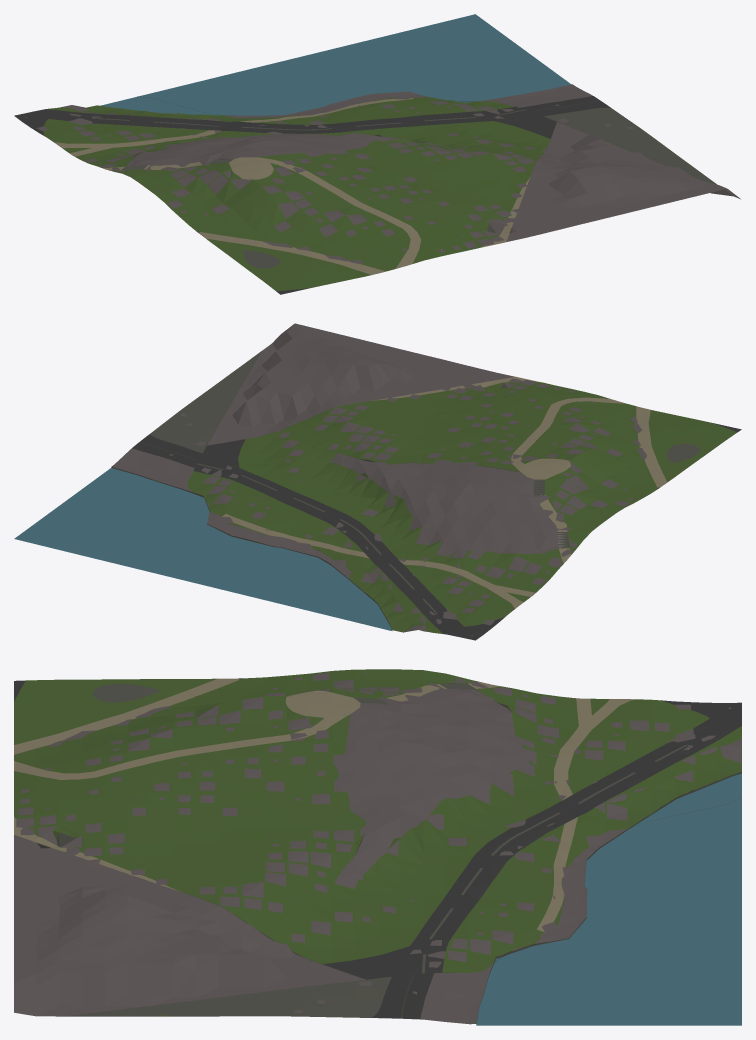
3 views of the same model, one above another, from view 1: azimuth 30°, elevation 25°; view 2: azimuth 150°, elevation 25°; view 3: azimuth 270°, elevation 25° (orthographic). The views are drawn at different scales.
Parts seen in each view (by area): view 1: c_m09_m07; view 2: c_m09_m07; view 3: c_m09_m07.
Boxes of the visible parts, x1=… form: c_m09_m07: x1=14, y1=14, x2=740, y2=294; c_m09_m07: x1=14, y1=323, x2=741, y2=640; c_m09_m07: x1=14, y1=669, x2=741, y2=1025.
Size of the model in its own units: 128 by 13.7 by 128.
